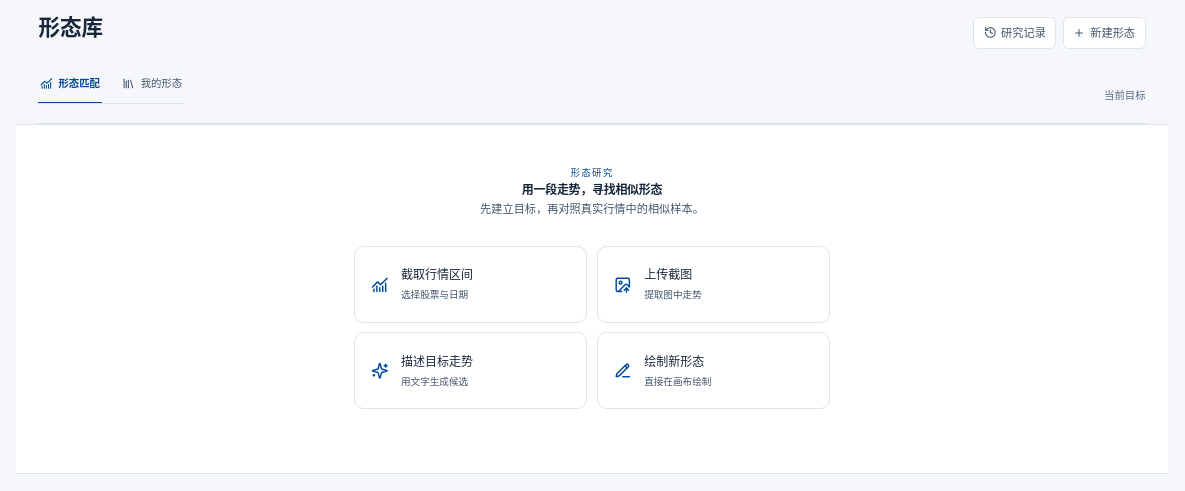
Test: opens a temporary named tool for the blank starter 截取行情区间
Click the button "截取行情区间 选择股票与日期".
click(470, 284)  # box left=354, top=246, right=587, bottom=323
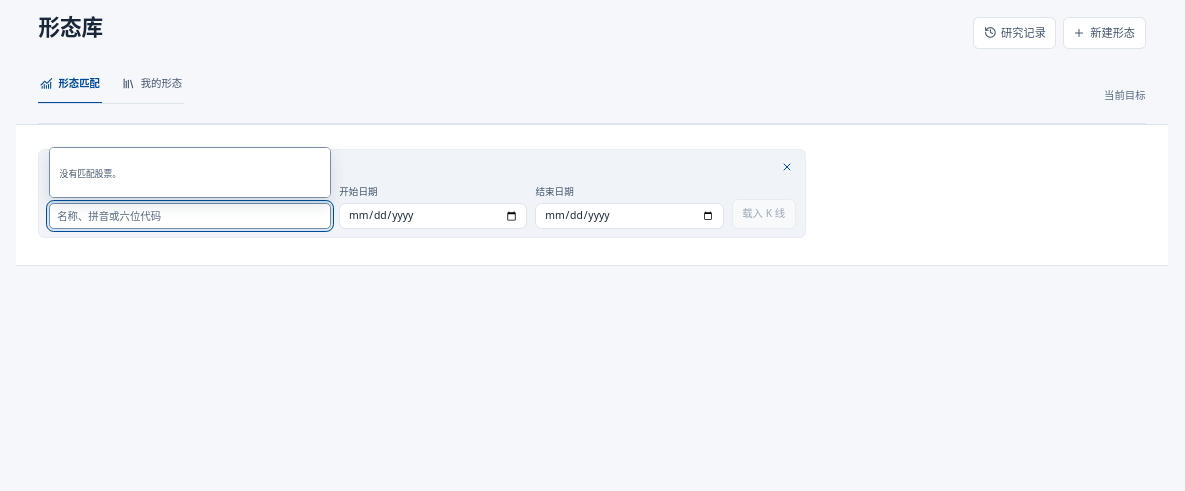
expect the header reads "截取行情区间": met, box left=49, top=160, right=107, bottom=173
expect the button named "关闭输入工具" is shown: met
Click the button named "关闭输入工具".
click(787, 167)  # box left=777, top=158, right=796, bottom=176
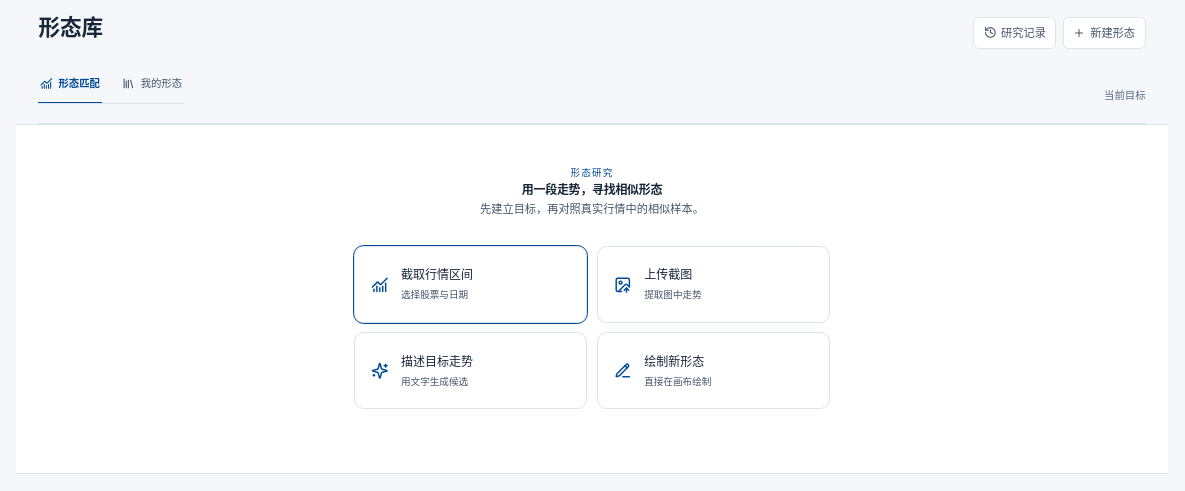
expect the element "输入工具" is gone: met
